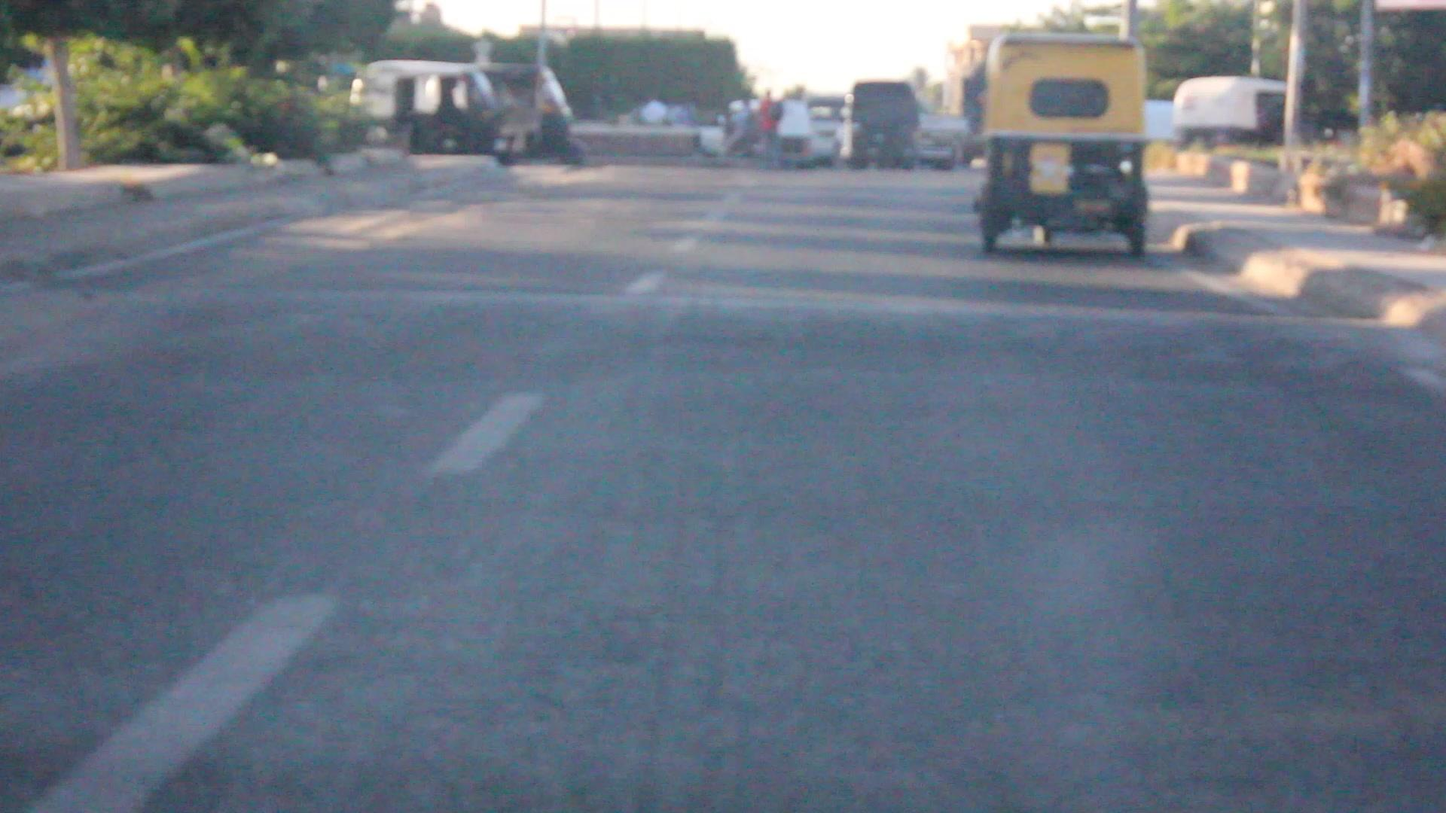Bump: (9, 281, 1445, 384)
